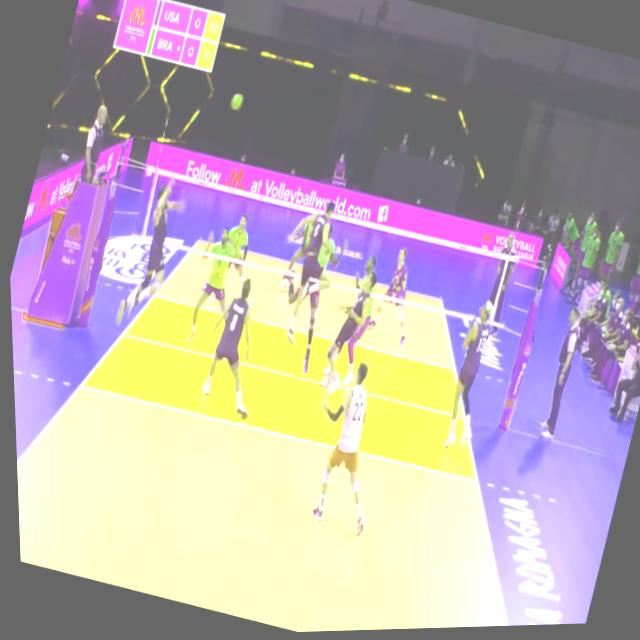player: (282, 352, 404, 542), (255, 192, 354, 352), (183, 270, 281, 424), (427, 298, 507, 462), (113, 175, 192, 325), (176, 224, 259, 355), (308, 265, 387, 401), (360, 245, 430, 348), (206, 209, 262, 285)
